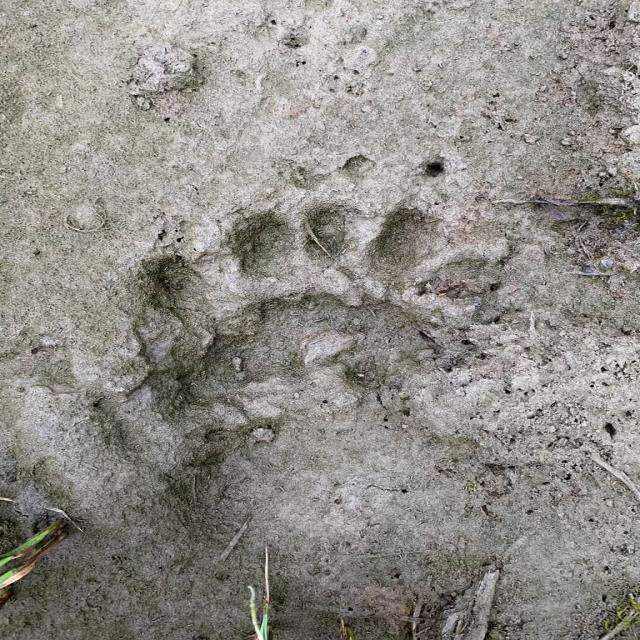bear: (148, 210, 487, 405)
